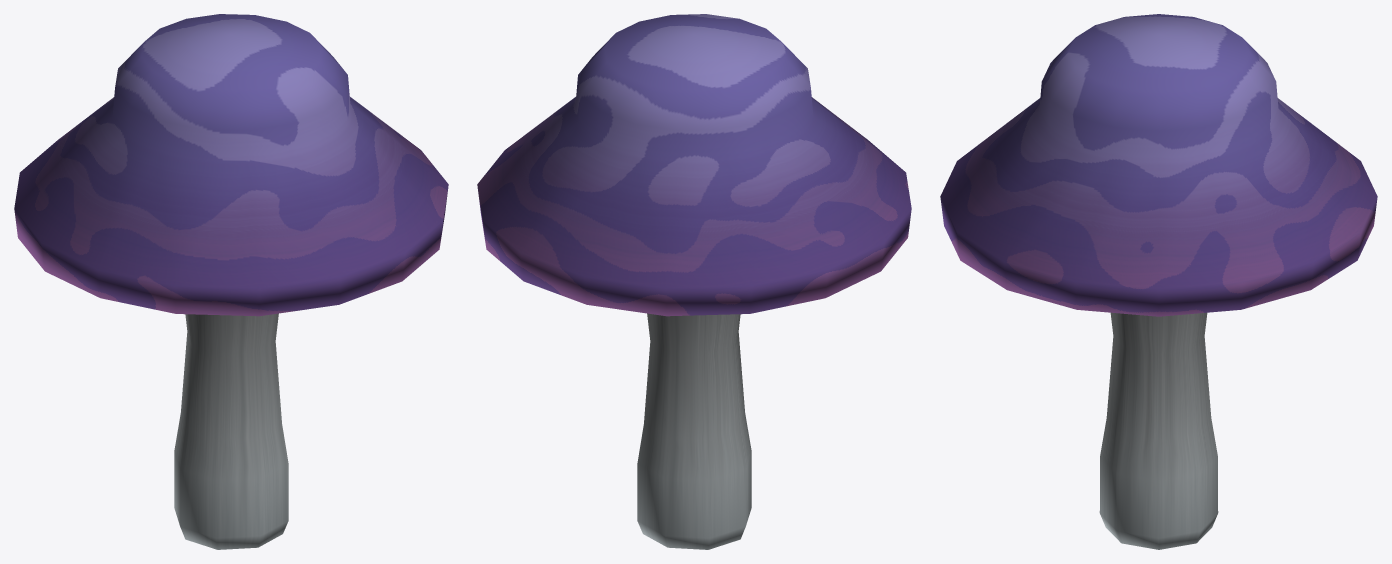
File: mushroom2.obj
3 renders of one model, left to right at view 1: azimuth 30°, elevation 25°; view 2: azimuth 150°, elevation 25°; view 3: azimuth 270°, elevation 25°, orthographic.
Visible parts, largest first — view 1: mushroom2_Mushroom_brown; view 2: mushroom2_Mushroom_brown; view 3: mushroom2_Mushroom_brown.
Part boxes in pixels (x1=…): mushroom2_Mushroom_brown: x1=14, y1=14, x2=448, y2=549; mushroom2_Mushroom_brown: x1=477, y1=14, x2=911, y2=549; mushroom2_Mushroom_brown: x1=940, y1=14, x2=1377, y2=549.
Bounding box in the file's own units: 0.4839 × 0.6087 × 0.4839.
